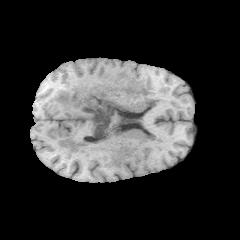glioma: (49, 71, 180, 170)
